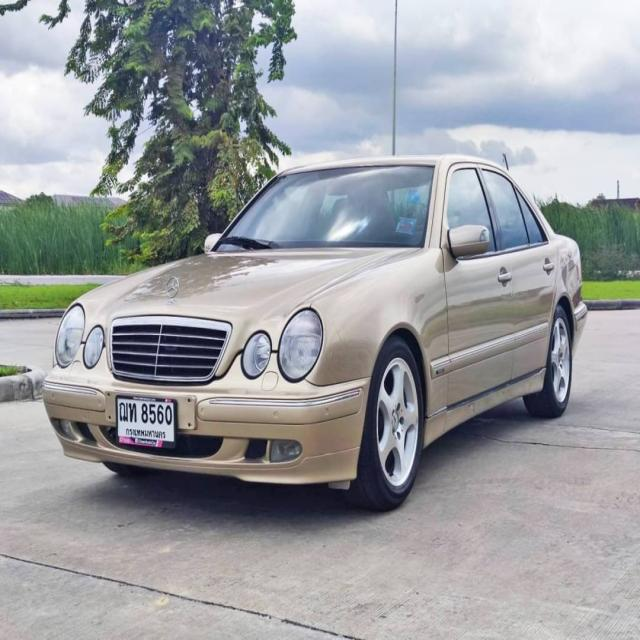license_plate: (116, 392, 178, 453)
